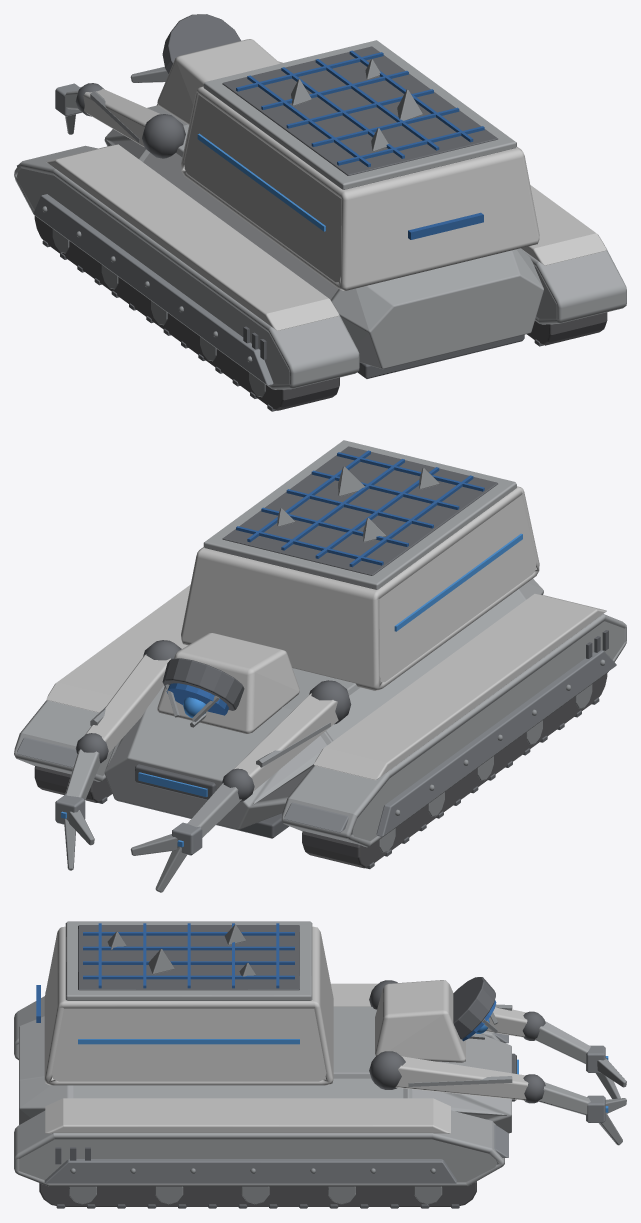
File: lattice_salvager.glb
The picture shows the model from 3 angles, top to bottom: view 1: azimuth 30°, elevation 25°; view 2: azimuth 150°, elevation 25°; view 3: azimuth 270°, elevation 25°; orthographic projection. The views are drawn at different scales.
Parts seen in each view (by area): view 1: Body; view 2: Body; view 3: Body.
Boxes of the visible parts, x1=… form: Body: x1=14, y1=14, x2=626, y2=411; Body: x1=14, y1=440, x2=626, y2=892; Body: x1=14, y1=921, x2=626, y2=1208.
Size of the model in its own units: 1.47 by 0.9097 by 2.49.
